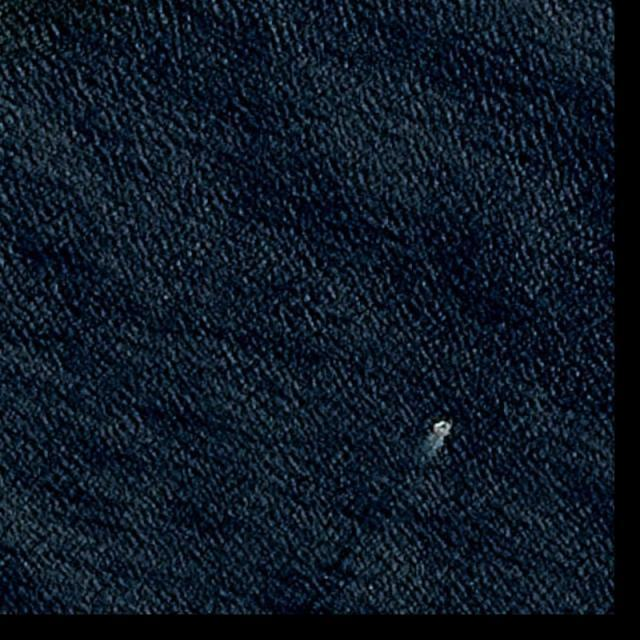ship: (437, 422, 448, 435)
